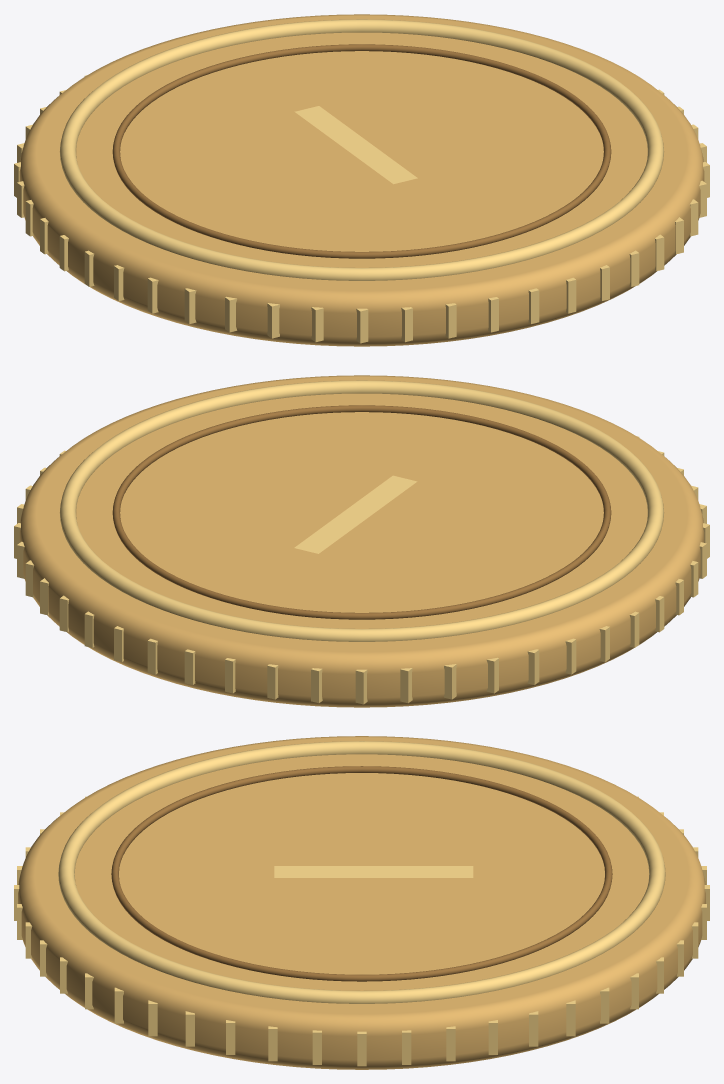
File: SM_Prop04_Moneda_Santiago_Garcia.fbx
3 renders of one model, top to bottom at view 1: azimuth 30°, elevation 25°; view 2: azimuth 150°, elevation 25°; view 3: azimuth 270°, elevation 25°, orthographic.
Visible parts, largest first — view 1: Moneda | pieza única, Aro exterior, Aro interior, Valor moneda; view 2: Moneda | pieza única, Aro exterior, Aro interior, Valor moneda; view 3: Moneda | pieza única, Aro exterior, Aro interior, Valor moneda.
Part boxes in pixels (box(x1,y1,x2,y2)): Moneda | pieza única: box(19, 14, 704, 346); Aro exterior: box(59, 19, 664, 280); Aro interior: box(112, 44, 611, 258); Valor moneda: box(294, 106, 417, 184); Moneda | pieza única: box(19, 375, 704, 707); Aro exterior: box(59, 380, 664, 641); Aro interior: box(112, 405, 611, 619); Valor moneda: box(294, 475, 417, 553); Moneda | pieza única: box(18, 736, 705, 1069); Aro exterior: box(58, 741, 665, 1003); Aro interior: box(111, 766, 612, 981); Valor moneda: box(274, 866, 473, 877).
Bounding box in the file's own units: 1.86 × 0.187 × 1.86.
